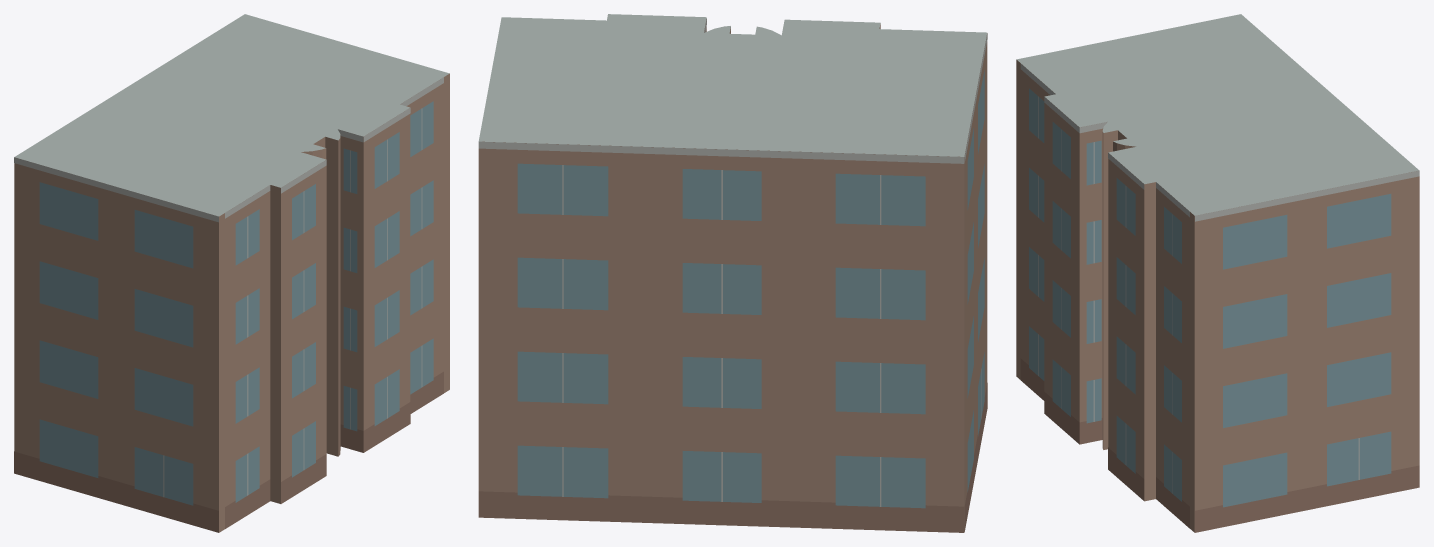
File: survey-upis-32732577.glb
3 renders of one model, left to right at view 1: azimuth 30°, elevation 25°; view 2: azimuth 150°, elevation 25°; view 3: azimuth 270°, elevation 25°, orthographic. The views are drawn at different scales.
Parts seen in each view (by area): view 1: survey-upis-32732577.tmp; view 2: survey-upis-32732577.tmp; view 3: survey-upis-32732577.tmp.
Part boxes in pixels (x1,y1,x2,y2): survey-upis-32732577.tmp: (14,14,449,532); survey-upis-32732577.tmp: (478,14,987,532); survey-upis-32732577.tmp: (1016,14,1419,532).
Size of the model in its own units: 17.89 by 13.1 by 15.1.
